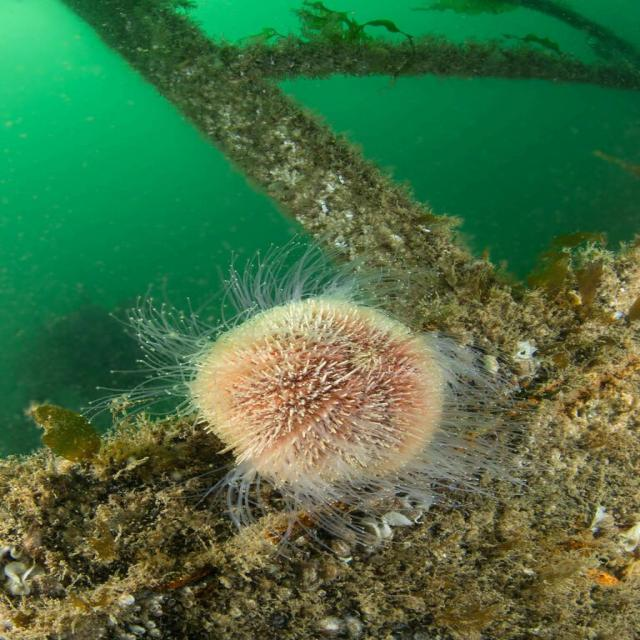Deniz Kestanesi: (80, 227, 548, 562)
